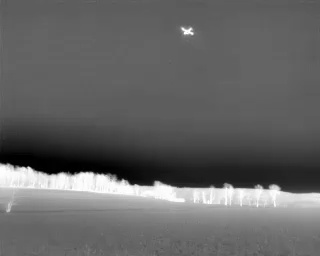DRONE: (177, 22, 199, 42)
